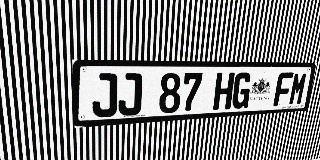7: (180, 73, 203, 112)
8: (158, 73, 182, 114)
F: (273, 72, 294, 106)
G: (231, 72, 253, 109)
H: (213, 73, 235, 110)
J: (92, 73, 117, 118), (118, 73, 142, 116)
M: (288, 72, 308, 105)
